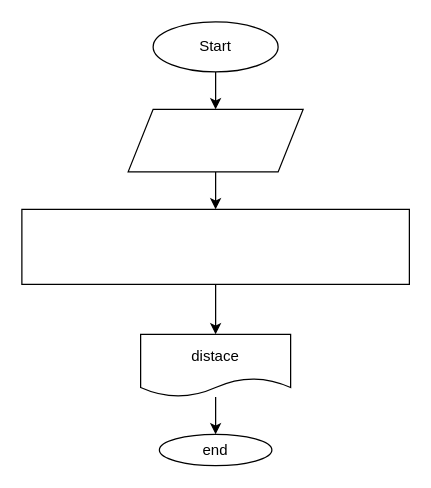
Image size: 431x488. Some labels were removed from this diagram. The shapes that lost their labels are listed below. From the top down, each one's box as (x1, y1, x2, y2) in pixels, then its label:
(127, 108, 303, 172): x1,x2,y1,y2,z1,z2
(21, 208, 409, 284): distance = Sqrt((x2-x1)^ + (y2-y1)^ + (z2-z1)^)
